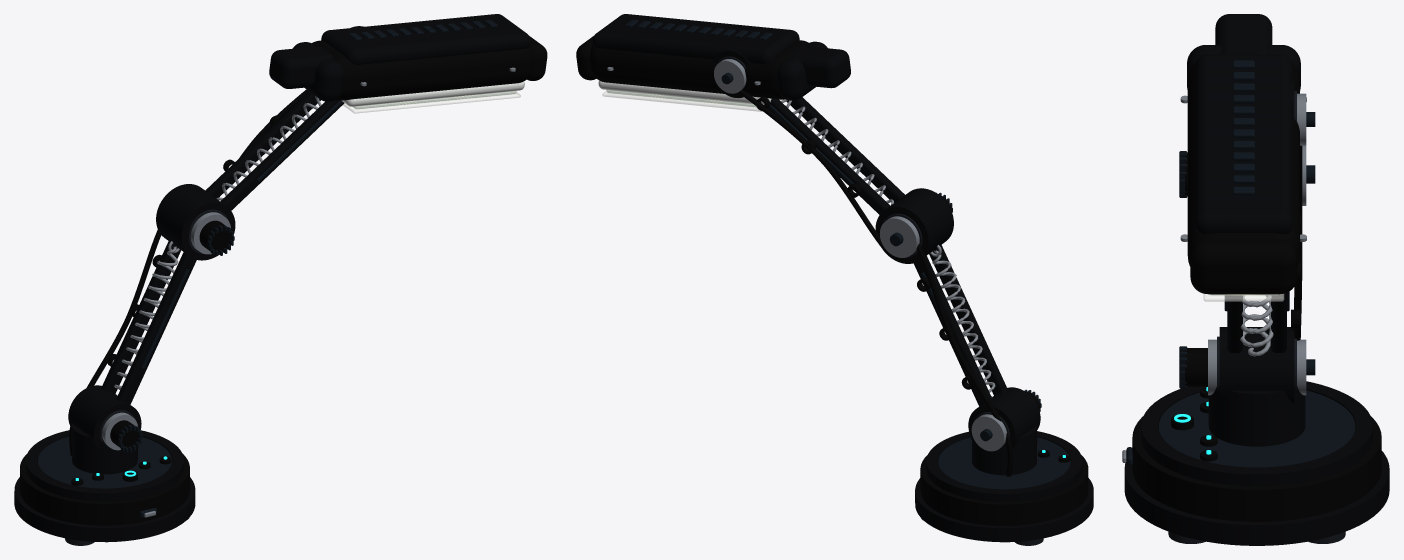
The model's file is desk-lamp.glb.
3 renders of one model, left to right at view 1: azimuth 30°, elevation 25°; view 2: azimuth 150°, elevation 25°; view 3: azimuth 270°, elevation 25°, orthographic. The views are drawn at different scales.
Visible parts, largest first — view 1: LampHead_MainHousing, LampHead_TopShell, Base_WeightedBody, Base_BottomPlate, Base_TopRing, Base_TopInsert, Joint_Elbow_Barrel, LowerArm_Front, LowerArm_Rear, Joint_Base_Barrel, Base_PivotCollar, UpperArm_Front (+9 smaller); view 2: LampHead_TopShell, LampHead_MainHousing, Base_WeightedBody, Base_BottomPlate, Base_TopRing, Base_TopInsert, Joint_Elbow_Barrel, BraidedPowerCable, Joint_Base_Barrel, UpperArm_Front, LampHead_PivotNeck, LowerArm_Front (+11 smaller); view 3: LampHead_TopShell, Base_WeightedBody, Base_BottomPlate, Base_TopRing, Base_TopInsert, LampHead_FrontCap, Base_PivotCollar, Joint_Base_Barrel, LampHead_MainHousing, LampHead_PivotNeck, LowerArm_TensionSpring, LowerArm_Rear (+8 smaller).
Part boxes in pixels (box(x1,y1,x2,y2)): LampHead_MainHousing: box(312, 40, 533, 100); LampHead_TopShell: box(321, 14, 530, 64); Base_WeightedBody: box(20, 453, 189, 525); Base_BottomPlate: box(14, 477, 195, 542); Base_TopRing: box(26, 430, 183, 501); Base_TopInsert: box(38, 436, 171, 488); Joint_Elbow_Barrel: box(156, 184, 235, 260); LowerArm_Front: box(116, 252, 196, 404); LowerArm_Rear: box(101, 241, 180, 393); Joint_Base_Barrel: box(68, 385, 141, 449); Base_PivotCollar: box(72, 424, 137, 474); UpperArm_Front: box(220, 100, 344, 210); LampHead_TopShell: box(592, 14, 799, 64); LampHead_MainHousing: box(590, 40, 808, 99); Base_WeightedBody: box(920, 455, 1088, 525); Base_BottomPlate: box(915, 478, 1093, 542); Base_TopRing: box(926, 431, 1082, 501); Base_TopInsert: box(938, 437, 1070, 489); Joint_Elbow_Barrel: box(875, 188, 953, 263); BraidedPowerCable: box(738, 90, 1013, 476); Joint_Base_Barrel: box(968, 387, 1040, 448); UpperArm_Front: box(786, 97, 904, 202); LampHead_PivotNeck: box(788, 46, 850, 88); LowerArm_Front: box(929, 245, 1007, 395); LampHead_TopShell: box(1194, 54, 1292, 234); Base_WeightedBody: box(1132, 416, 1381, 521); Base_BottomPlate: box(1124, 451, 1389, 545); Base_TopRing: box(1141, 381, 1372, 486); Base_TopInsert: box(1158, 390, 1355, 467); LampHead_FrontCap: box(1190, 240, 1297, 294); Base_PivotCollar: box(1208, 386, 1305, 446); Joint_Base_Barrel: box(1219, 327, 1294, 403); LampHead_MainHousing: box(1187, 54, 1299, 266); LampHead_PivotNeck: box(1215, 14, 1272, 54); LowerArm_TensionSpring: box(1240, 295, 1273, 356); LowerArm_Rear: box(1271, 293, 1286, 352).
Size of the model in its own units: 0.9685 by 0.7726 by 0.3045.
12 materials, 4 textured.
